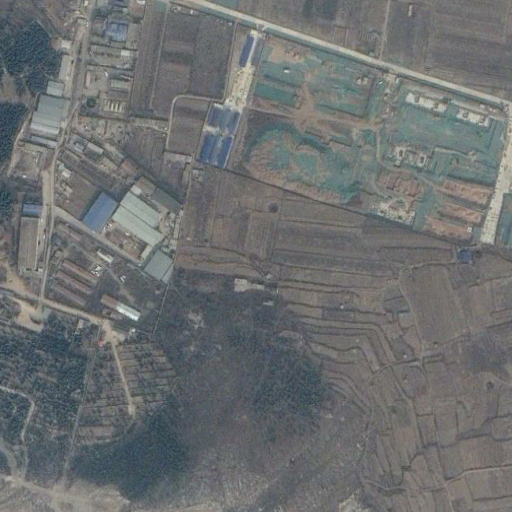cw: (223, 31, 505, 247)
